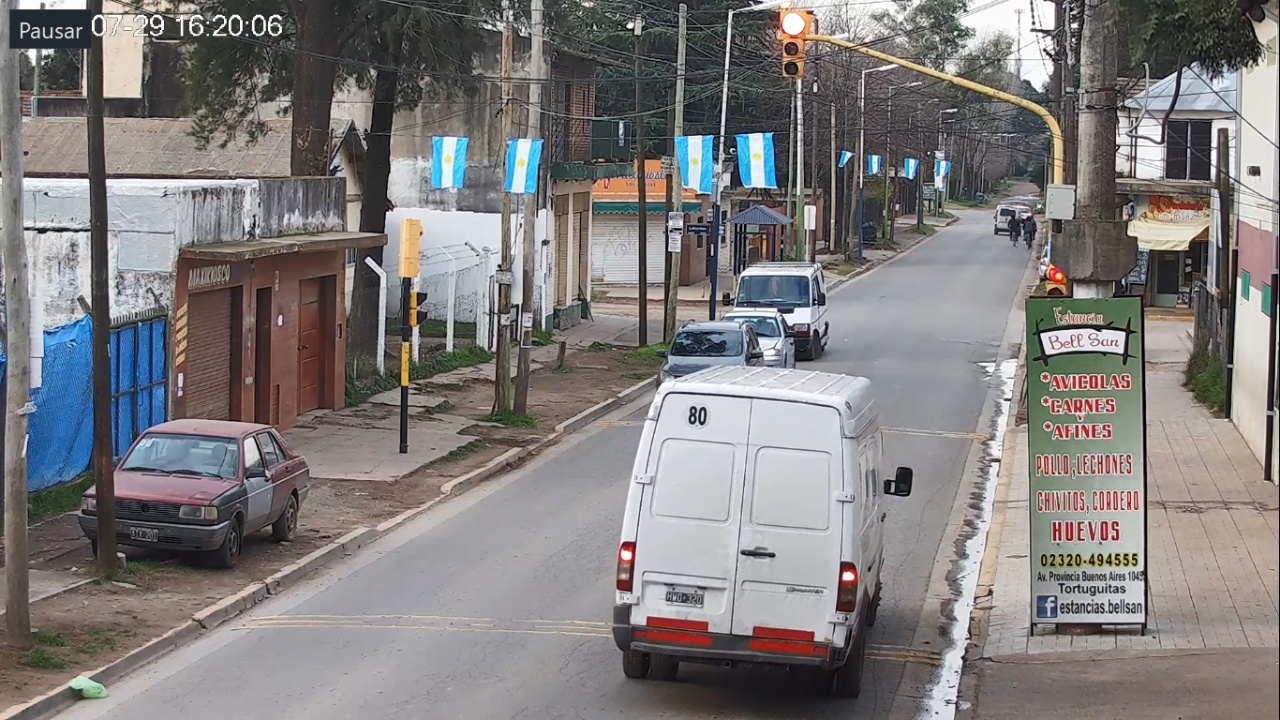car: (613, 366, 912, 697)
traffic light: (782, 11, 805, 76)
